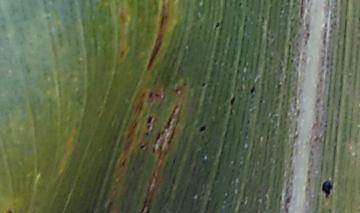tarspot: (320, 178, 333, 200), (197, 124, 207, 134), (229, 95, 237, 107), (248, 85, 257, 95), (138, 142, 148, 151), (145, 114, 153, 124), (213, 20, 221, 29), (199, 80, 207, 89), (147, 90, 153, 102), (145, 123, 152, 132), (3, 208, 15, 213), (143, 131, 149, 138)
